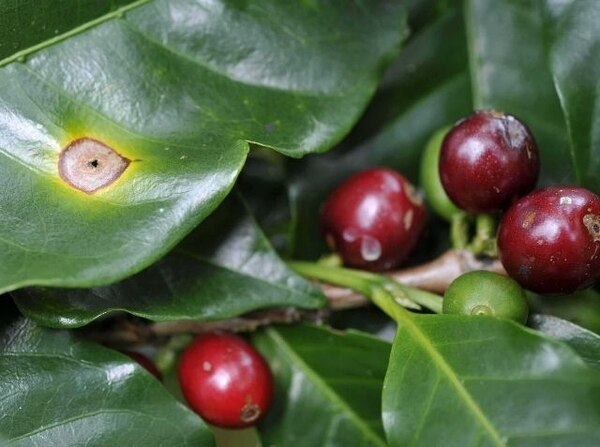ojo de gallo: (22, 88, 201, 234)
